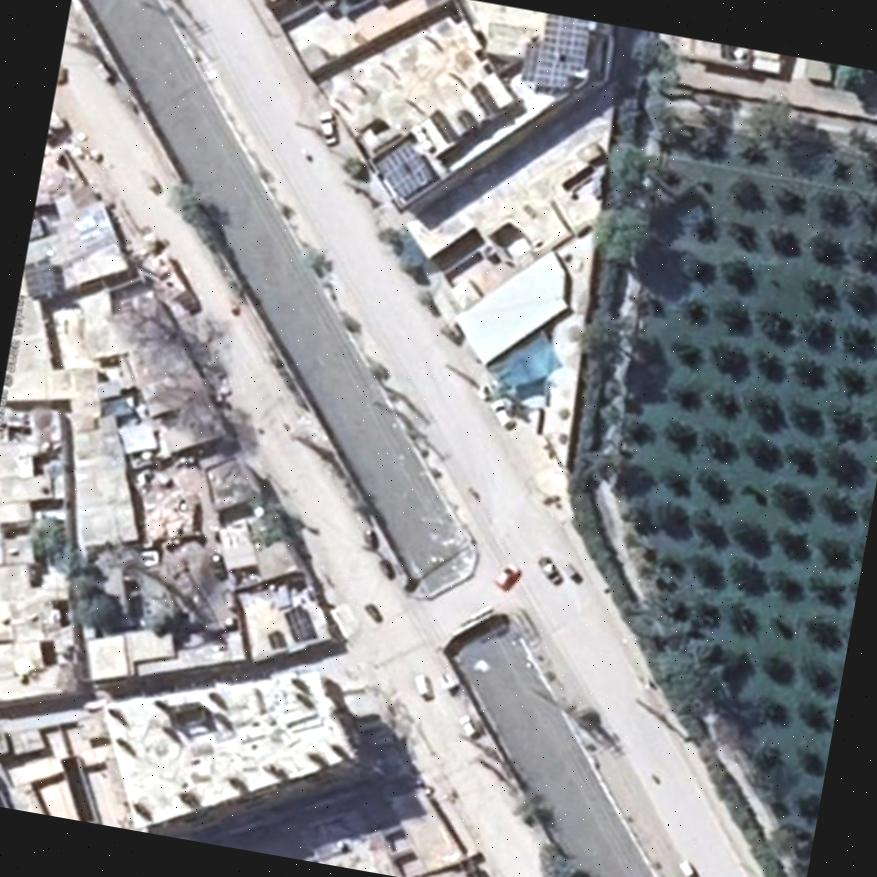Solarpanel: (523, 11, 590, 92), (374, 133, 437, 203), (25, 256, 54, 295), (285, 608, 311, 640)
